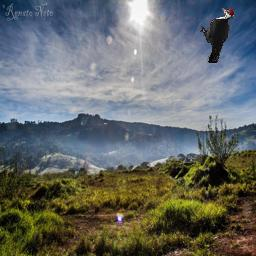Woodpecker: (200, 7, 235, 63)
